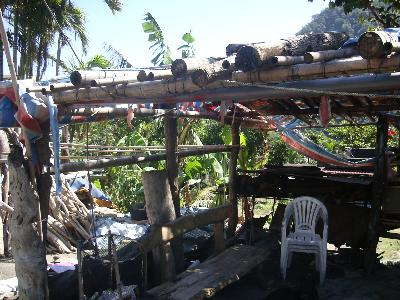plastic_bag: (199, 100, 395, 169)
